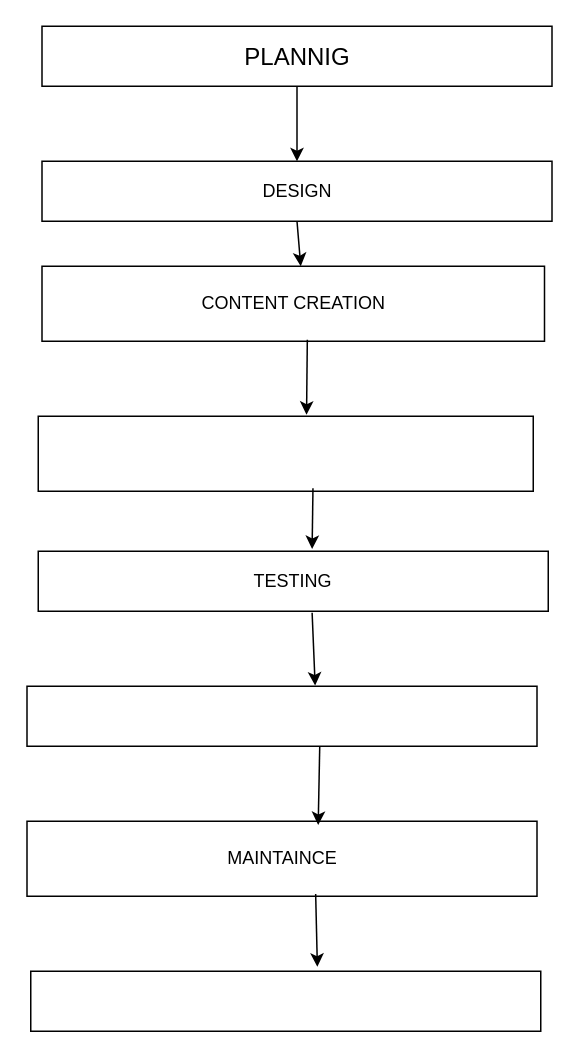
Image size: 578x1058. Some labels were removed from this diagram. Here are the shapes that lost their labels. From the top down, the box of each, then its label:
(37, 415, 533, 491): DEVELOPMENT AND CODING
(26, 685, 537, 746): LAUNCH
